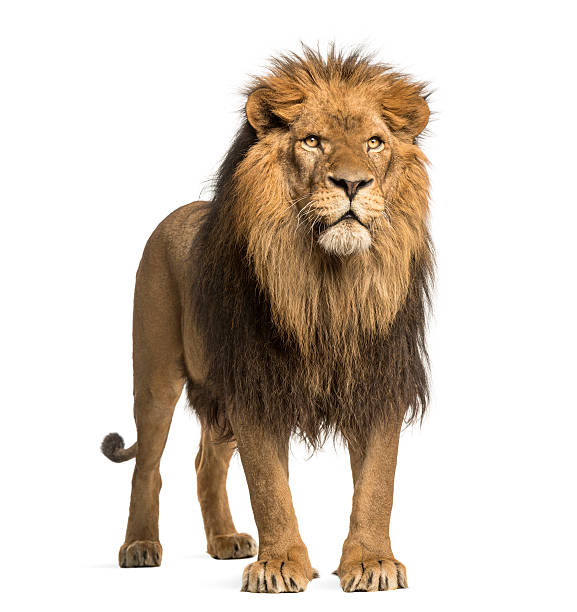lion: (167, 14, 485, 478)
